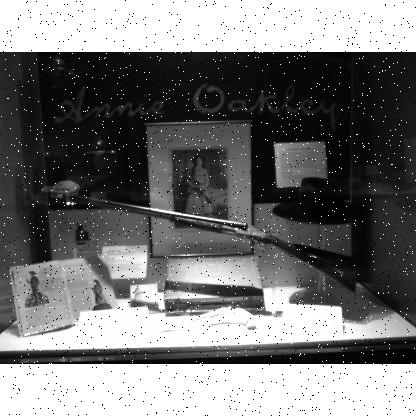gun: (64, 191, 360, 291)
